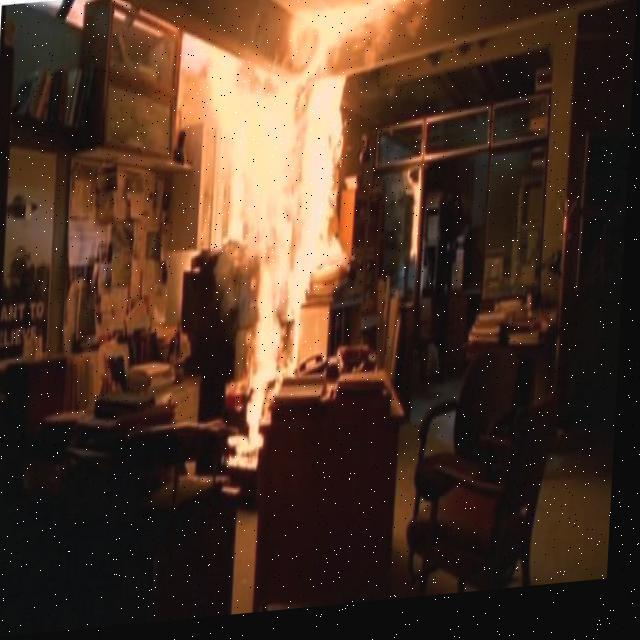Fire: (204, 37, 356, 460)
